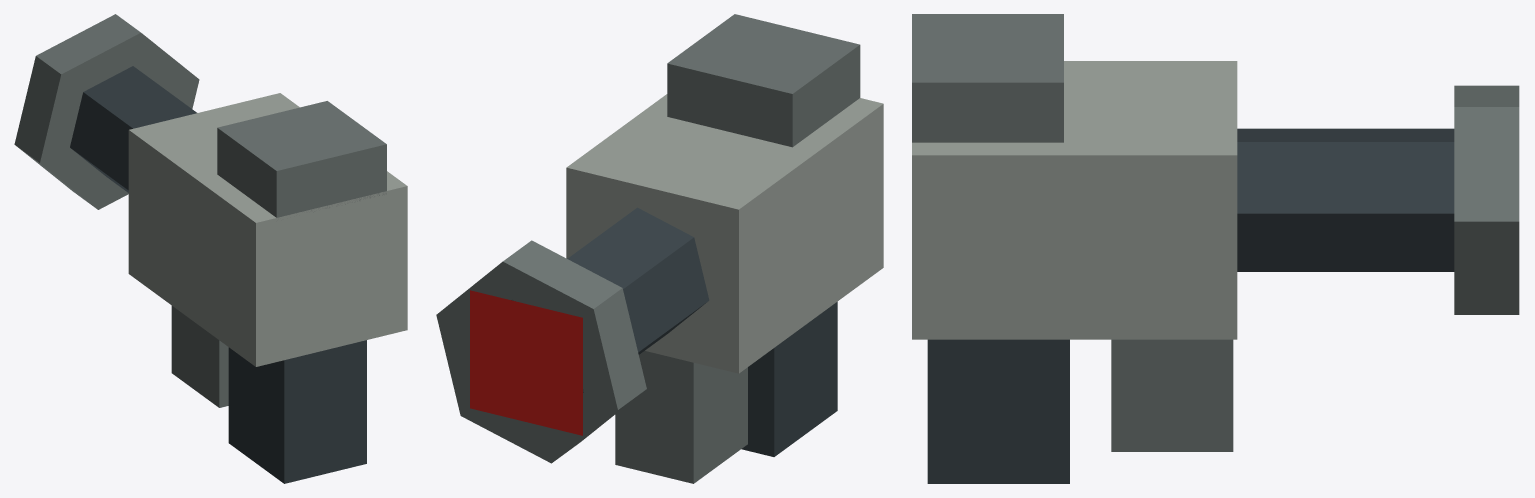
3 renders of one model, left to right at view 1: azimuth 30°, elevation 25°; view 2: azimuth 150°, elevation 25°; view 3: azimuth 270°, elevation 25°, orthographic. The views are drawn at different scales.
Parts seen in each view (by area): view 1: mount; view 2: mount; view 3: mount.
Boxes of the visible parts, <box> form: mount: <box>14,14,407,483</box>; mount: <box>436,14,883,483</box>; mount: <box>912,14,1519,483</box>.
Size of the model in its own units: 4.35 by 8.34 by 11.23.
